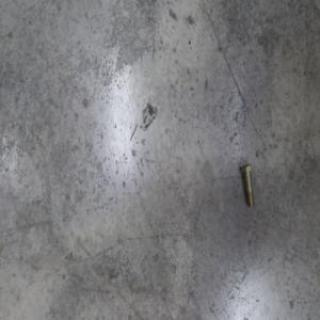Bolttrack_idkeyframe: (240, 161, 254, 207)
